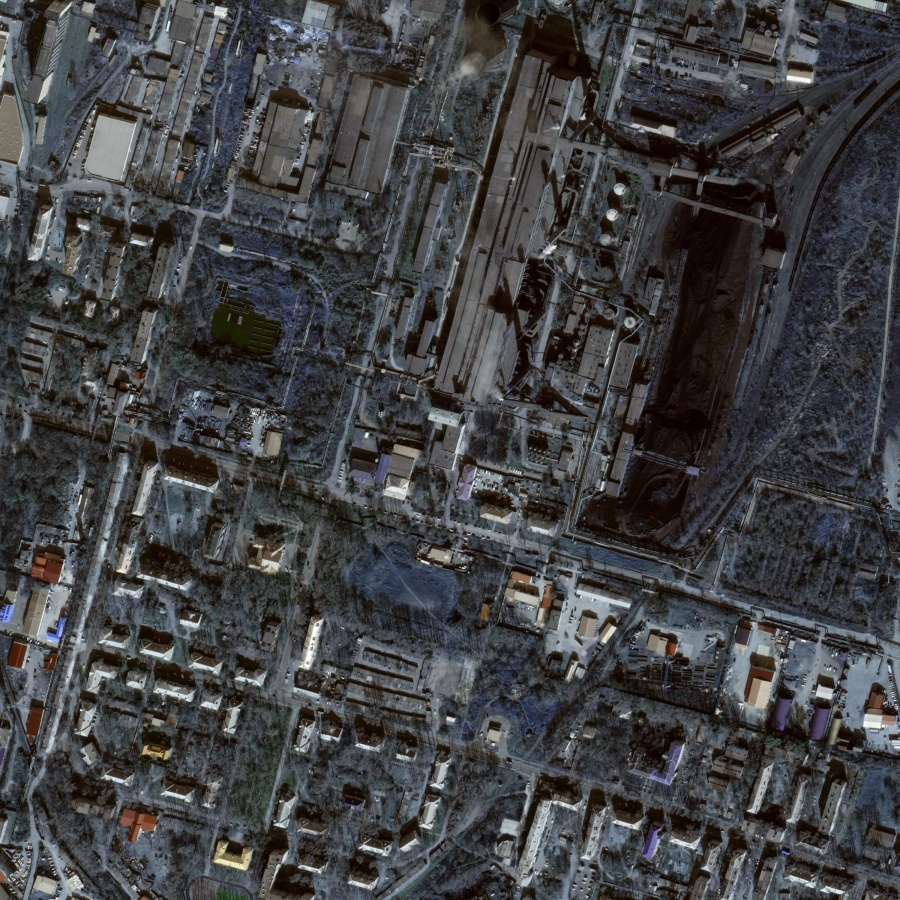PowerPlant: (483, 105, 788, 539)
